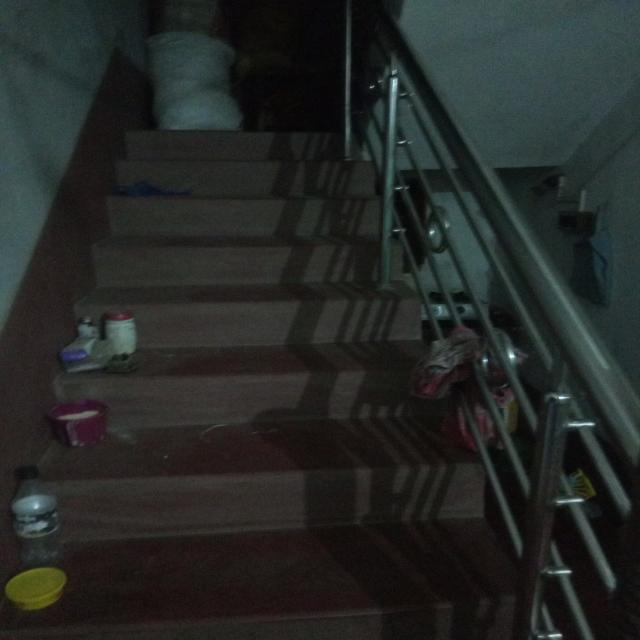Stairs: (21, 28, 606, 617)
